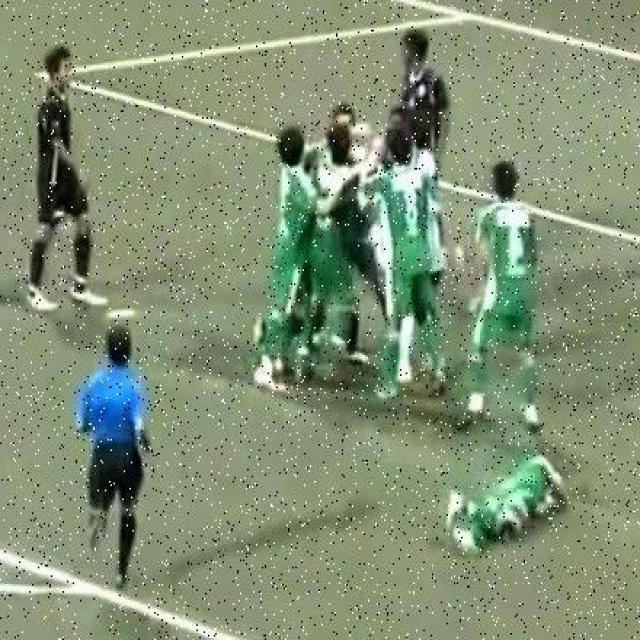fall: (437, 452, 572, 564)
